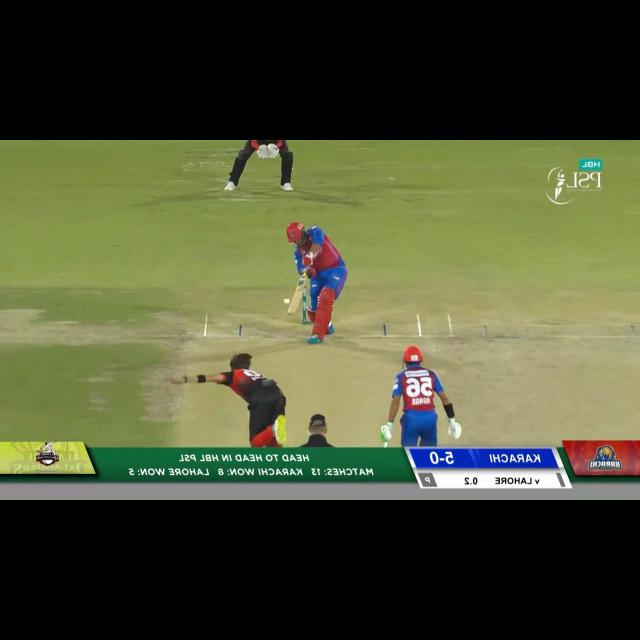bat: (288, 274, 307, 315)
toe: (288, 309, 298, 316)
